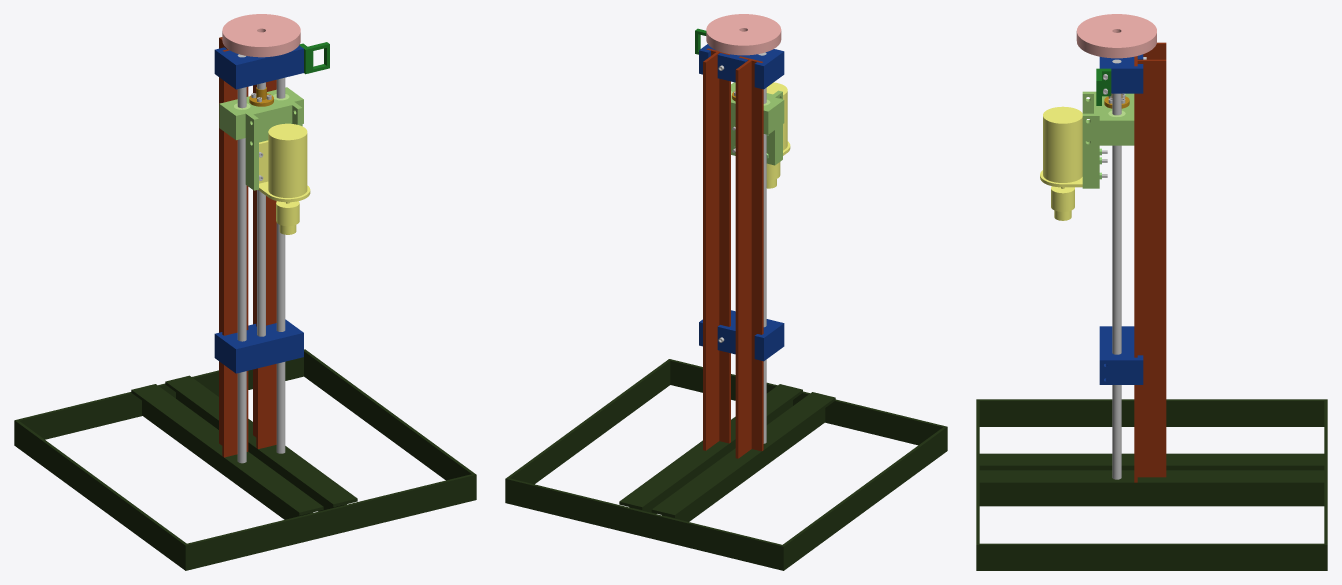
File: Drill2.glb
3 views of the same model, side by side, from view 1: azimuth 30°, elevation 25°; view 2: azimuth 150°, elevation 25°; view 3: azimuth 270°, elevation 25° (orthographic). The views are drawn at different scales.
Parts seen in each view (by area): view 1: Metal-3X25X300.004, Metal-3X25X400mm, Metal-3X25X300.007, Metal-3X25X300.006, Metal-3X25X300, Motor, Metal-3X25X300.005, Metal-3X25X300.001, Motor-Shaft-Holder, Metal-3X25X400mm.001, EndOfRail.001, Shaft_400mm-8mm.001 (+9 smaller); view 2: Metal-3X25X300.005, Metal-3X25X400mm.002, Metal-3X25X400mm.003, Metal-3X25X400mm, Metal-3X25X300.007, Metal-3X25X300.006, Metal-3X25X400mm.001, Metal-3X25X300.004, Metal-3X25X300, Metal-3X25X300.001, Driver_wheel, Metal-3X25X300.002 (+6 smaller); view 3: Metal-3X25X400mm.003, Metal-3X25X300.006, Metal-3X25X300.007, Metal-3X25X300.003, Metal-3X25X300.001, Metal-3X25X300, Motor, Shaft_400mm-8mm, Motor-Shaft-Holder, Driver_wheel, EndOfRail.001, Metal-3X25X400mm.001 (+5 smaller).
Part boxes in pixels (x1=…): Metal-3X25X300.004: x1=184, y1=473, x2=476, y2=570; Metal-3X25X400mm: x1=222, y1=49, x2=248, y2=457; Metal-3X25X300.007: x1=16, y1=421, x2=186, y2=569; Metal-3X25X300.006: x1=304, y1=350, x2=474, y2=480; Metal-3X25X300: x1=131, y1=384, x2=323, y2=515; Motor: x1=258, y1=123, x2=310, y2=234; Metal-3X25X300.005: x1=14, y1=349, x2=306, y2=446; Metal-3X25X300.001: x1=165, y1=375, x2=357, y2=507; Motor-Shaft-Holder: x1=219, y1=87, x2=303, y2=190; Metal-3X25X400mm.001: x1=256, y1=80, x2=276, y2=449; EndOfRail.001: x1=214, y1=319, x2=303, y2=373; Shaft_400mm-8mm.001: x1=237, y1=54, x2=246, y2=463; Metal-3X25X300.005: x1=505, y1=477, x2=785, y2=570; Metal-3X25X400mm.002: x1=735, y1=60, x2=751, y2=458; Metal-3X25X400mm.003: x1=703, y1=52, x2=719, y2=450; Metal-3X25X400mm: x1=739, y1=56, x2=763, y2=451; Metal-3X25X300.007: x1=783, y1=427, x2=945, y2=569; Metal-3X25X300.006: x1=507, y1=360, x2=670, y2=484; Metal-3X25X400mm.001: x1=706, y1=48, x2=730, y2=443; Metal-3X25X300.004: x1=668, y1=359, x2=947, y2=451; Metal-3X25X300: x1=651, y1=392, x2=835, y2=517; Metal-3X25X300.001: x1=619, y1=384, x2=802, y2=509; Driver_wheel: x1=706, y1=14, x2=781, y2=55; Metal-3X25X300.002: x1=662, y1=408, x2=825, y2=521; Metal-3X25X400mm.003: x1=1137, y1=59, x2=1166, y2=477; Metal-3X25X300.006: x1=979, y1=543, x2=1324, y2=570; Metal-3X25X300.007: x1=979, y1=399, x2=1324, y2=426; Metal-3X25X300.003: x1=979, y1=485, x2=1324, y2=506; Metal-3X25X300.001: x1=979, y1=470, x2=1324, y2=485; Metal-3X25X300: x1=979, y1=453, x2=1324, y2=468; Motor: x1=1040, y1=106, x2=1082, y2=220; Shaft_400mm-8mm: x1=1112, y1=59, x2=1121, y2=479; Motor-Shaft-Holder: x1=1082, y1=91, x2=1134, y2=188; Driver_wheel: x1=1076, y1=14, x2=1156, y2=58; EndOfRail.001: x1=1099, y1=326, x2=1143, y2=384; Metal-3X25X400mm.001: x1=1134, y1=56, x2=1137, y2=482.
Size of the model in its own units: 0.3 by 0.4485 by 0.306.
